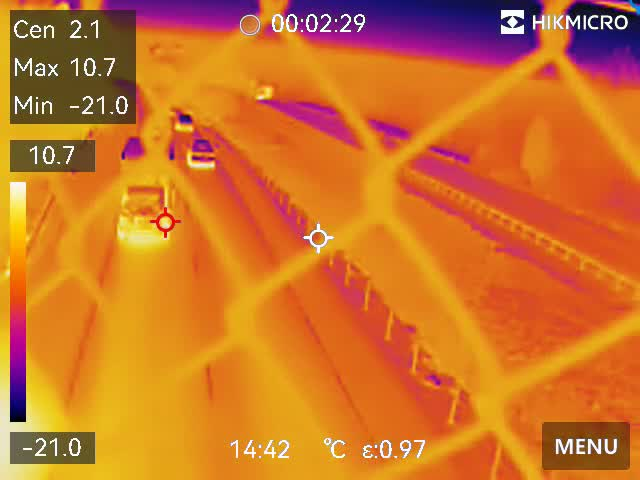vehicle: (116, 185, 183, 246), (185, 135, 219, 174), (172, 109, 195, 135)
